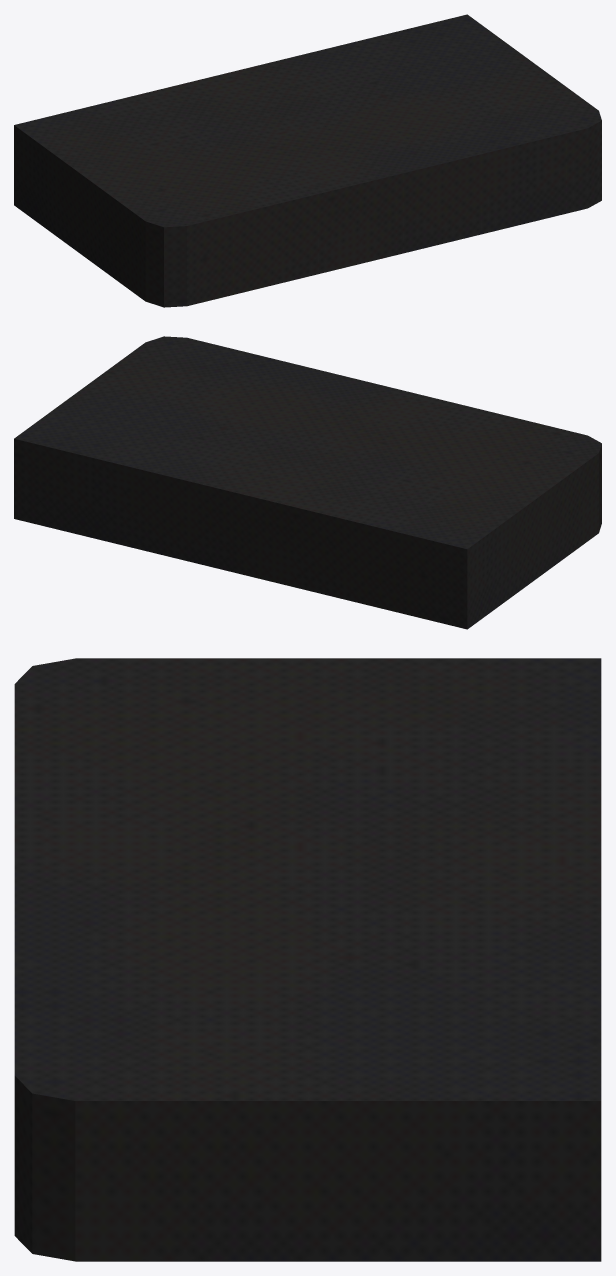
File: VHSTape.fbx
3 renders of one model, top to bottom at view 1: azimuth 30°, elevation 25°; view 2: azimuth 150°, elevation 25°; view 3: azimuth 270°, elevation 25°, orthographic. The views are drawn at different scales.
Parts seen in each view (by area): view 1: VHSTape; view 2: VHSTape; view 3: VHSTape.
Boxes of the visible parts, box(x1,y1,x2,y2) form: VHSTape: box(14, 14, 601, 307); VHSTape: box(14, 336, 601, 629); VHSTape: box(14, 658, 601, 1261).
Size of the model in its own units: 0.183 by 0.0309 by 0.1026.
1 material, 1 textured.
